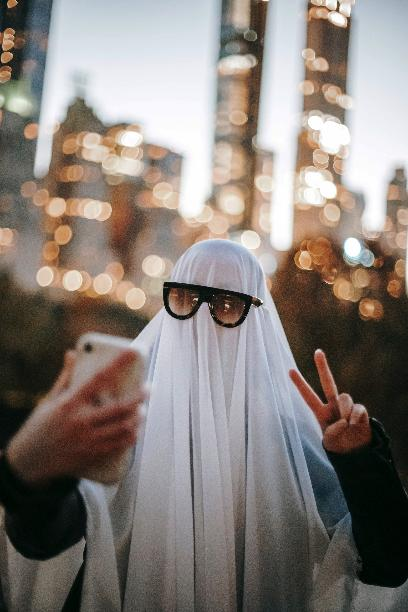Scissors: (282, 347, 374, 455)
